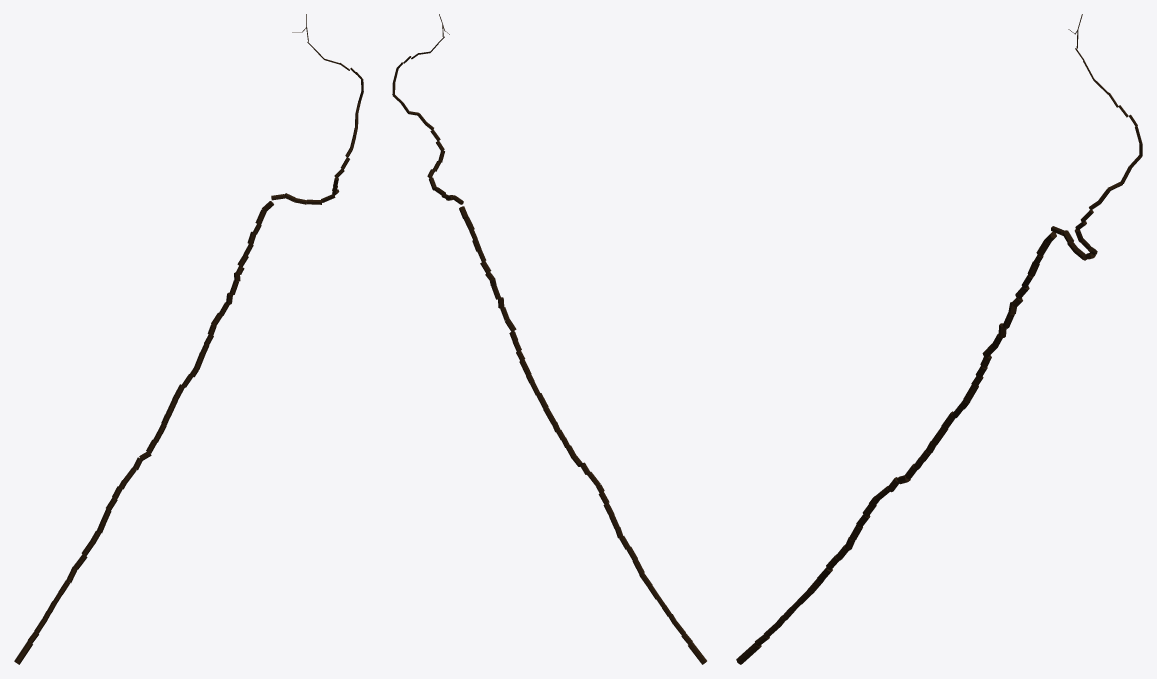
File: tree_540_no_leaf.obj
3 views of the same model, side by side, from view 1: azimuth 30°, elevation 25°; view 2: azimuth 150°, elevation 25°; view 3: azimuth 330°, elevation 25° (orthographic). The views are drawn at different scales.
Visible parts, largest first — view 1: TrunkAndBranches; view 2: TrunkAndBranches; view 3: TrunkAndBranches.
Part boxes in pixels (bbox=[...]): TrunkAndBranches: bbox=[14, 14, 363, 664]; TrunkAndBranches: bbox=[392, 14, 706, 664]; TrunkAndBranches: bbox=[736, 14, 1142, 664].
Size of the model in its own units: 3.49 by 5.88 by 0.5877.
